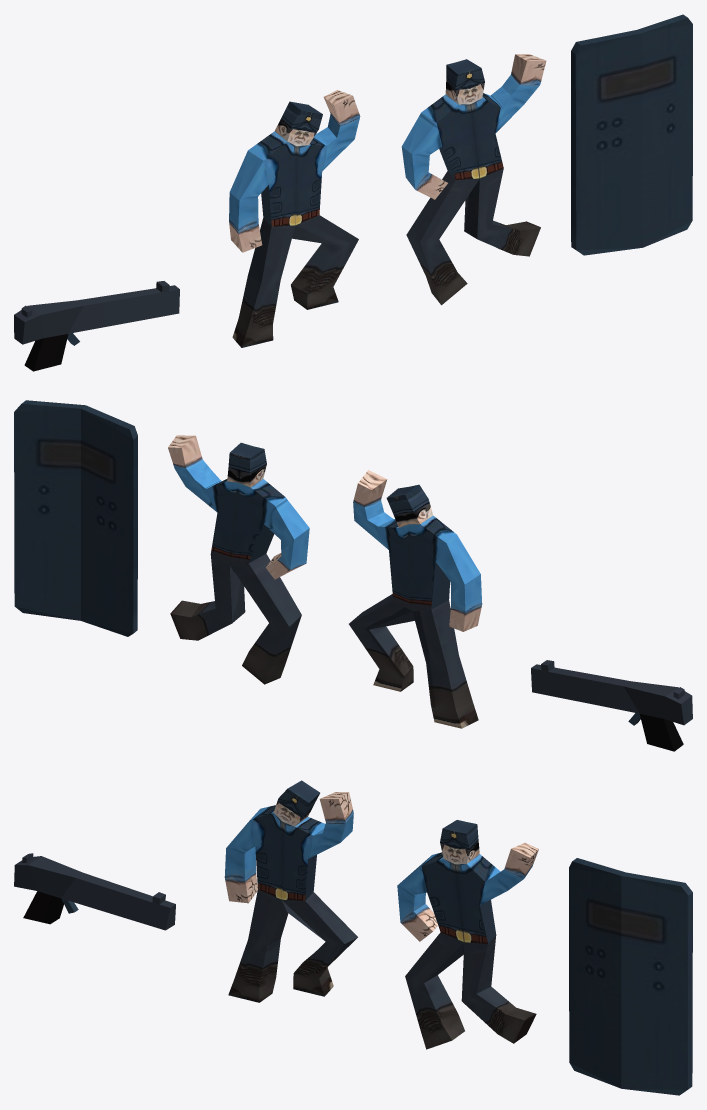
The model's file is GarbageEnemyGunShield_4items.fbx.
The picture shows the model from 3 angles, top to bottom: view 1: azimuth 30°, elevation 25°; view 2: azimuth 150°, elevation 25°; view 3: azimuth 330°, elevation 25°; orthographic projection.
Visible parts, largest first — view 1: Shield1, CopShield1, CopShield2, Pistol1; view 2: Shield1, CopShield1, CopShield2, Pistol1; view 3: Shield1, CopShield2, CopShield1, Pistol1.
Part boxes in pixels (left/top/right/bottom): Shield1: left=571, top=14, right=692, bottom=255; CopShield1: left=229, top=90, right=360, bottom=347; CopShield2: left=401, top=54, right=546, bottom=305; Pistol1: left=14, top=281, right=179, bottom=371; Shield1: left=14, top=400, right=137, bottom=636; CopShield1: left=349, top=470, right=482, bottom=728; CopShield2: left=168, top=435, right=309, bottom=684; Pistol1: left=531, top=660, right=692, bottom=751; Shield1: left=569, top=858, right=692, bottom=1095; CopShield2: left=397, top=820, right=538, bottom=1049; CopShield1: left=224, top=780, right=357, bottom=1002; Pistol1: left=14, top=853, right=175, bottom=930.
Size of what is drawn, in the model's own units: 44.67 by 14.63 by 1.77.
